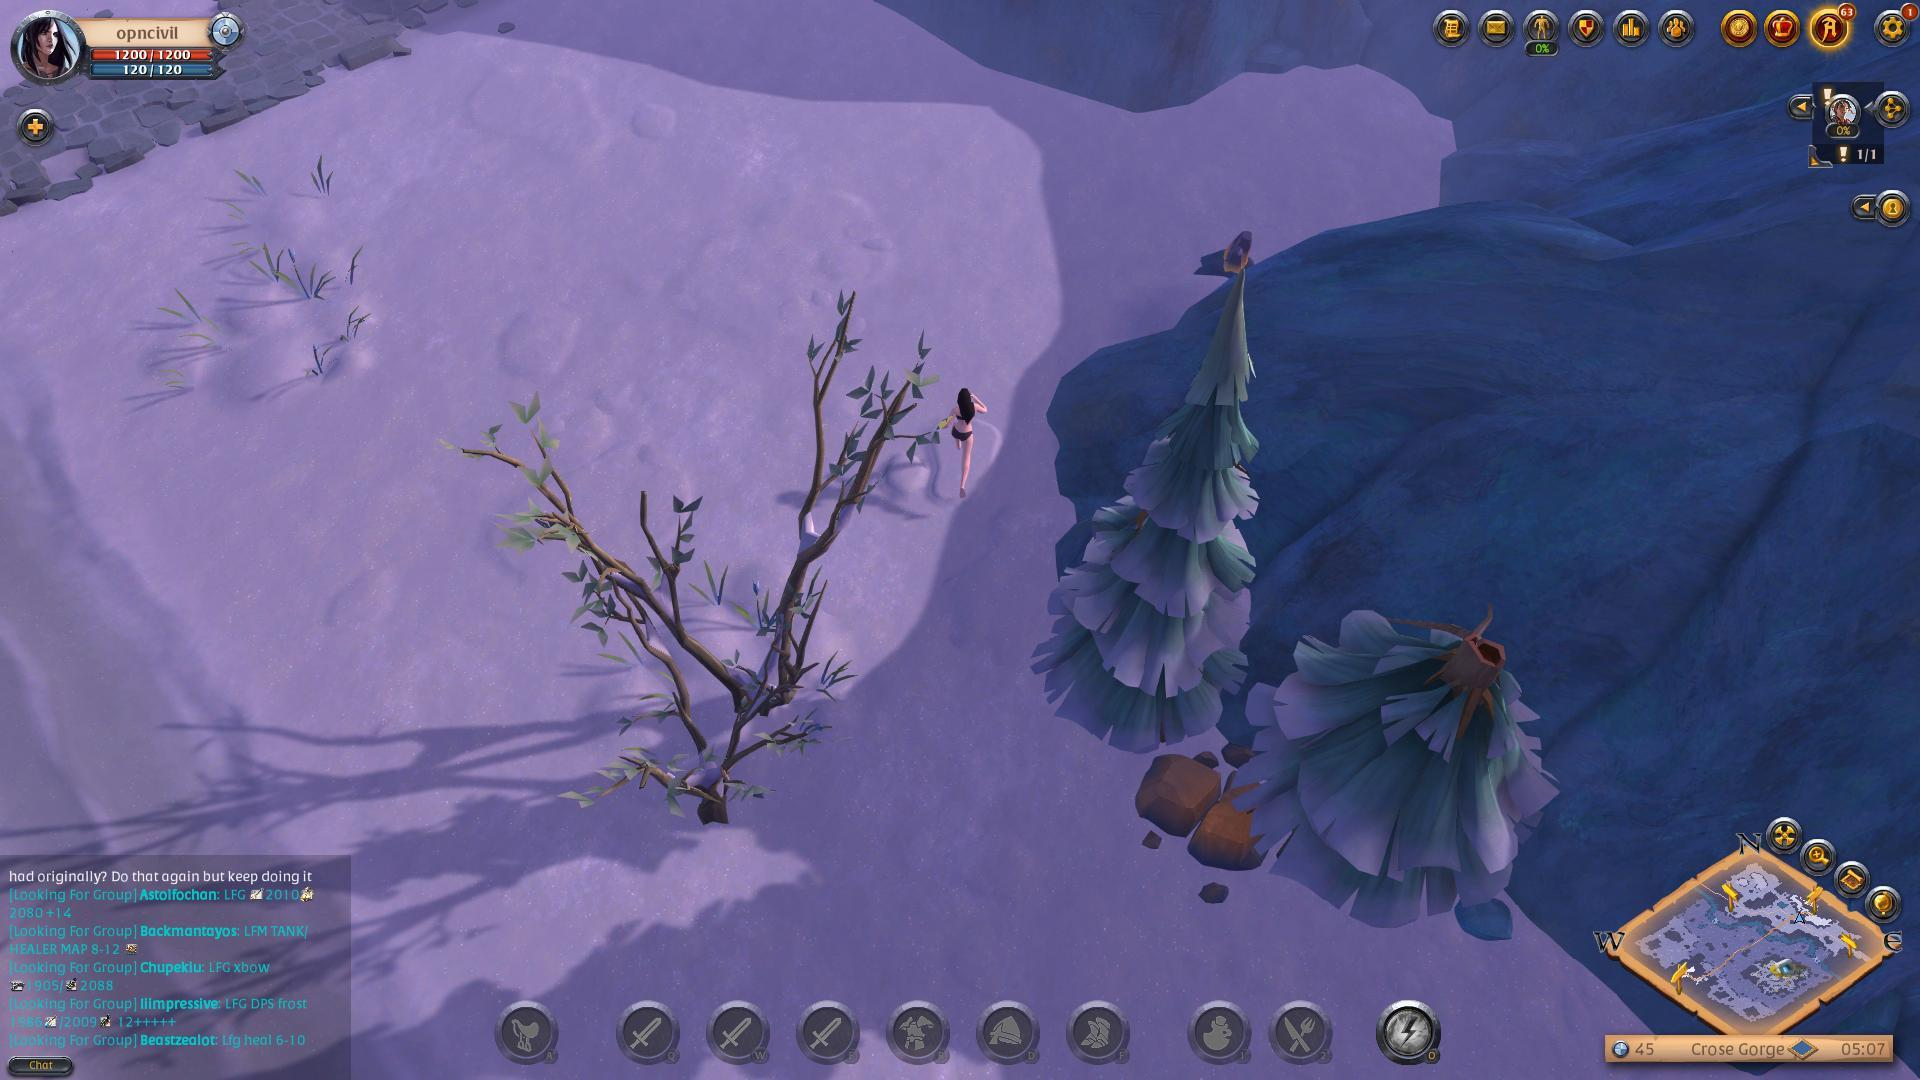copper_ore: (1196, 216, 1261, 284)
limestone: (1131, 733, 1279, 877)
